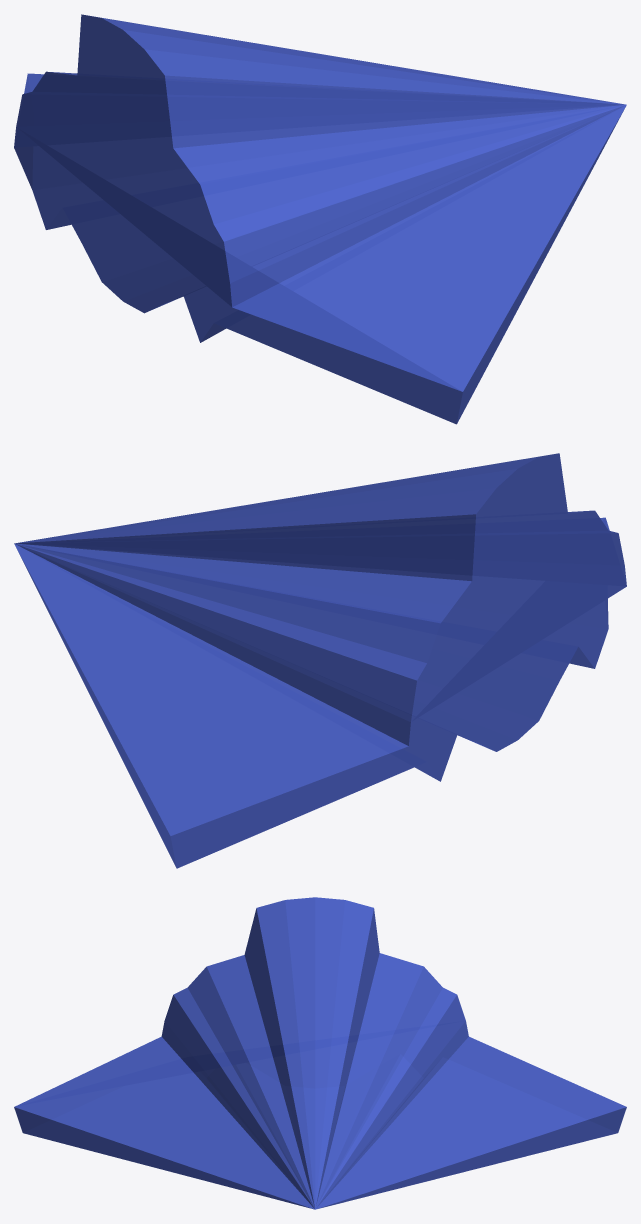
Rendered from ship.obj.
3 renders of one model, top to bottom at view 1: azimuth 30°, elevation 25°; view 2: azimuth 150°, elevation 25°; view 3: azimuth 270°, elevation 25°, orthographic. The views are drawn at different scales.
Visible parts, largest first — view 1: Cone; view 2: Cone; view 3: Cone.
Part boxes in pixels (x1,y1,x2,y2): Cone: (14,14,626,424); Cone: (14,453,626,868); Cone: (14,897,626,1209).
Bounding box in the file's own units: 2.67 × 1.38 × 3.99.
